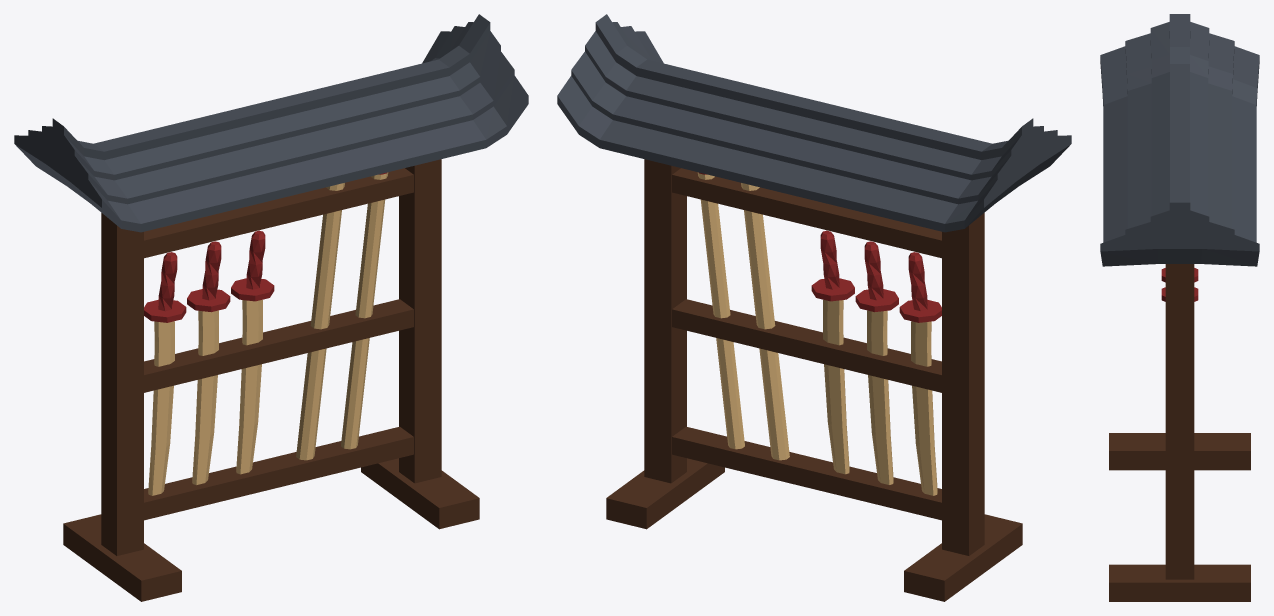
The model's file is weapon-rack.glb.
3 views of the same model, side by side, from view 1: azimuth 30°, elevation 25°; view 2: azimuth 150°, elevation 25°; view 3: azimuth 270°, elevation 25° (orthographic). The views are drawn at different scales.
Parts seen in each view (by area): view 1: Rack, Roof, Weapons, Grips; view 2: Rack, Roof, Weapons, Grips; view 3: Roof, Rack, Grips.
Boxes of the visible parts, bbox=[...] form: Rack: bbox=[63, 159, 479, 601]; Roof: bbox=[14, 14, 528, 232]; Weapons: bbox=[148, 172, 388, 495]; Grips: bbox=[144, 172, 387, 322]; Rack: bbox=[606, 159, 1022, 601]; Roof: bbox=[557, 14, 1071, 232]; Weapons: bbox=[697, 172, 937, 495]; Grips: bbox=[698, 172, 941, 322]; Roof: bbox=[1100, 14, 1259, 266]; Rack: bbox=[1109, 264, 1250, 601]; Grips: bbox=[1161, 268, 1198, 301].
Size of the model in its own units: 6.3 by 6.52 by 2.25.
